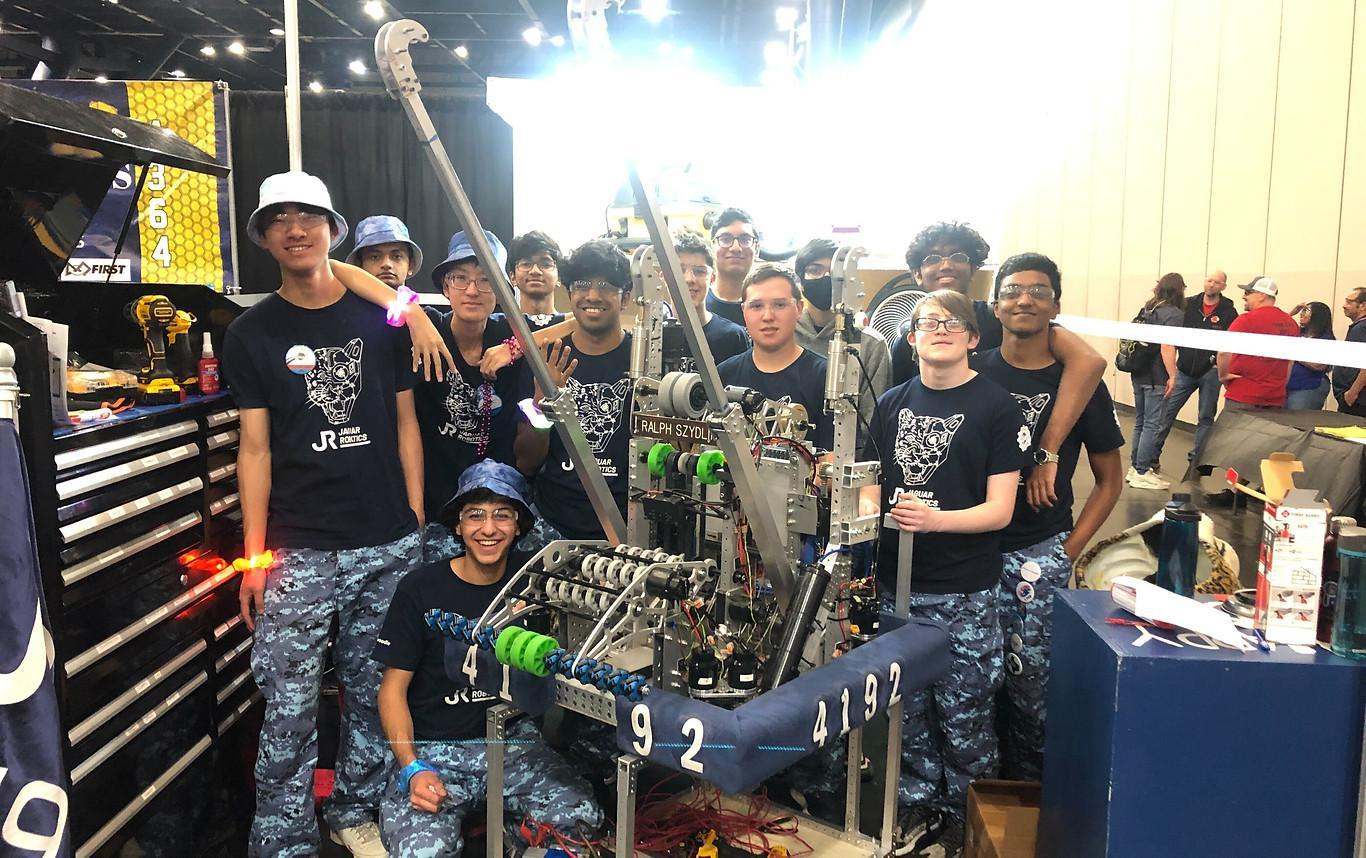robot: (370, 0, 964, 806)
